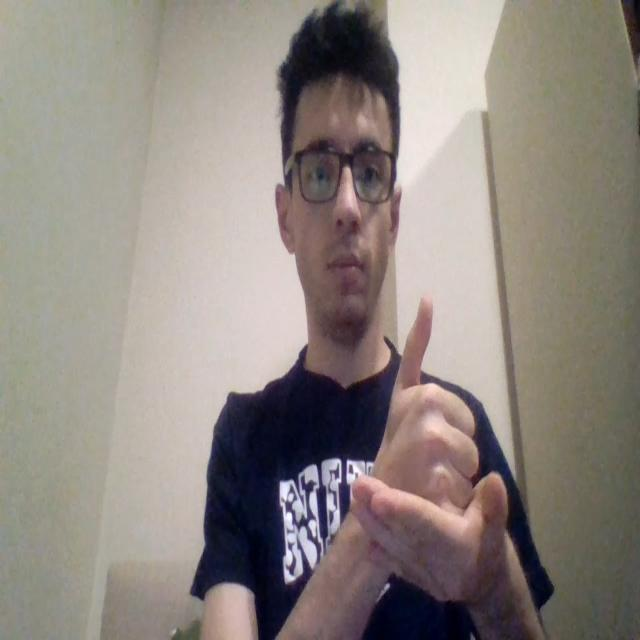help: (353, 295, 510, 605)
